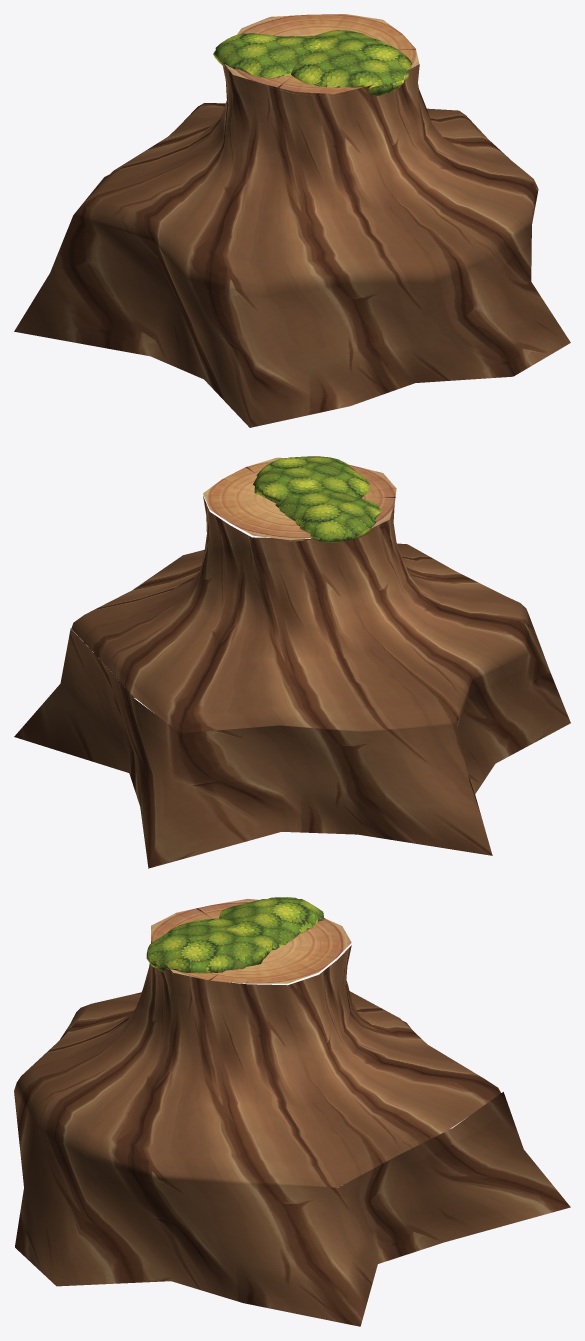
The model's file is mossy_stump1_s23912.gltf.
The picture shows the model from 3 angles, top to bottom: view 1: azimuth 30°, elevation 25°; view 2: azimuth 150°, elevation 25°; view 3: azimuth 270°, elevation 25°; orthographic projection. The views are drawn at different scales.
Visible parts, largest first — view 1: mossy_stump1_s23912_bark_LOD0, mossy_stump1_s23912_moss_LOD0, mossy_stump1_s23912_cap_LOD0; view 2: mossy_stump1_s23912_bark_LOD0, mossy_stump1_s23912_moss_LOD0, mossy_stump1_s23912_cap_LOD0; view 3: mossy_stump1_s23912_bark_LOD0, mossy_stump1_s23912_moss_LOD0, mossy_stump1_s23912_cap_LOD0.
Part boxes in pixels (bbox=[...]): mossy_stump1_s23912_bark_LOD0: bbox=[14, 64, 570, 427]; mossy_stump1_s23912_moss_LOD0: bbox=[213, 30, 411, 96]; mossy_stump1_s23912_cap_LOD0: bbox=[225, 14, 419, 96]; mossy_stump1_s23912_bark_LOD0: bbox=[14, 496, 570, 868]; mossy_stump1_s23912_moss_LOD0: bbox=[253, 456, 381, 542]; mossy_stump1_s23912_cap_LOD0: bbox=[203, 457, 396, 540]; mossy_stump1_s23912_bark_LOD0: bbox=[14, 941, 570, 1326]; mossy_stump1_s23912_moss_LOD0: bbox=[146, 897, 323, 973]; mossy_stump1_s23912_cap_LOD0: bbox=[151, 899, 351, 983].
Size of what is drawn, in the model's own units: 1.58 by 0.8432 by 1.52.
Materials: 3 (3 with a texture image).
